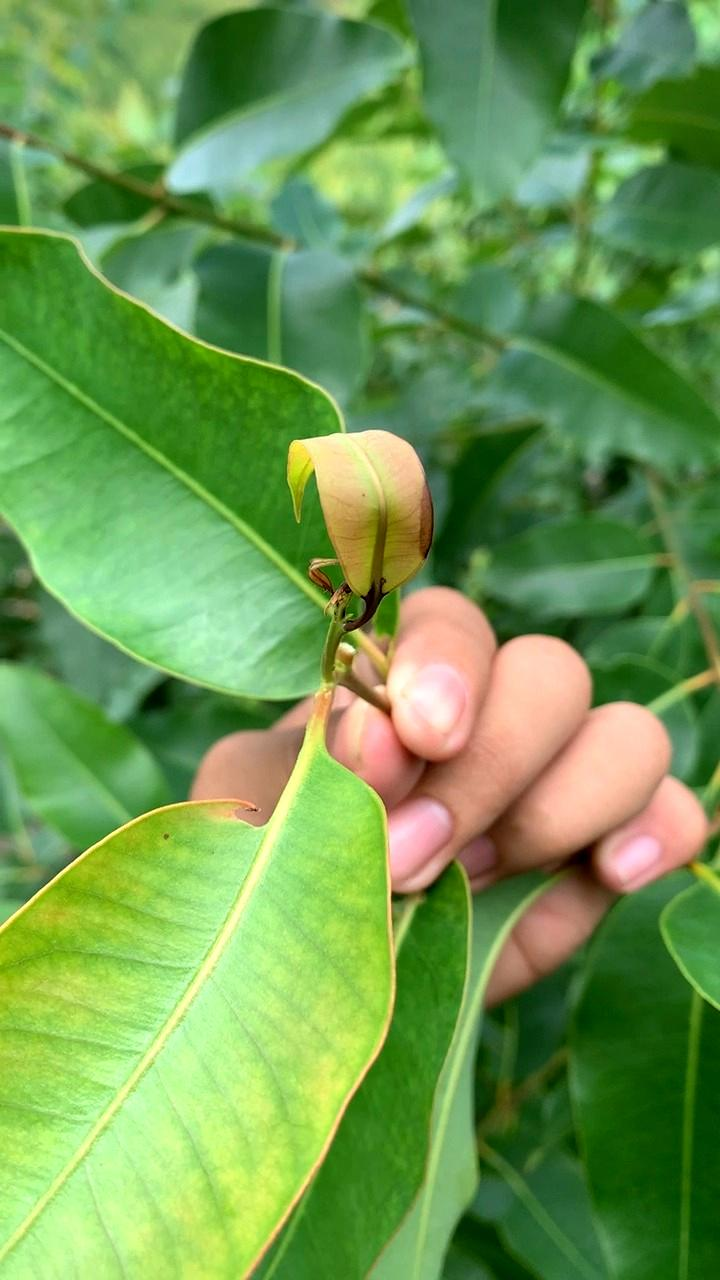Helopeltis-Withered Sprout: (276, 413, 441, 618)
